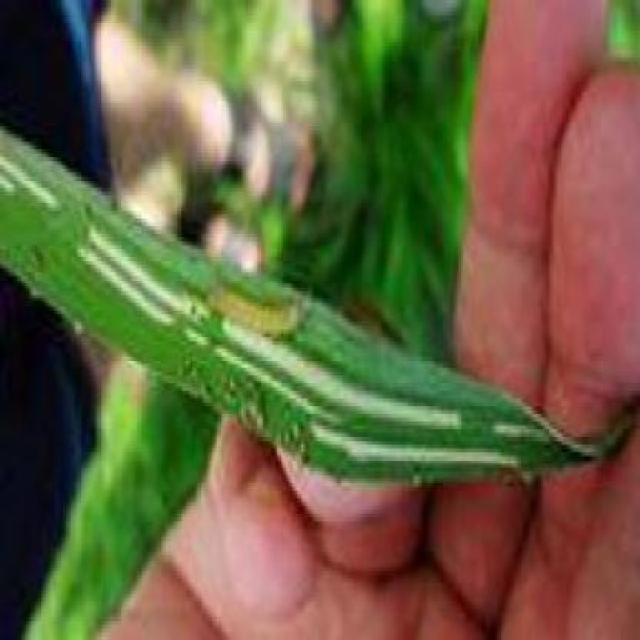leaf-folder: (193, 262, 310, 352)
